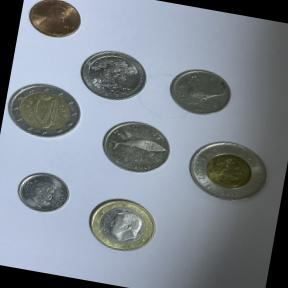coin: (176, 126, 282, 214), (90, 107, 183, 184), (76, 186, 170, 262), (0, 75, 87, 148), (74, 40, 158, 107), (8, 162, 78, 222), (16, 0, 94, 49)
